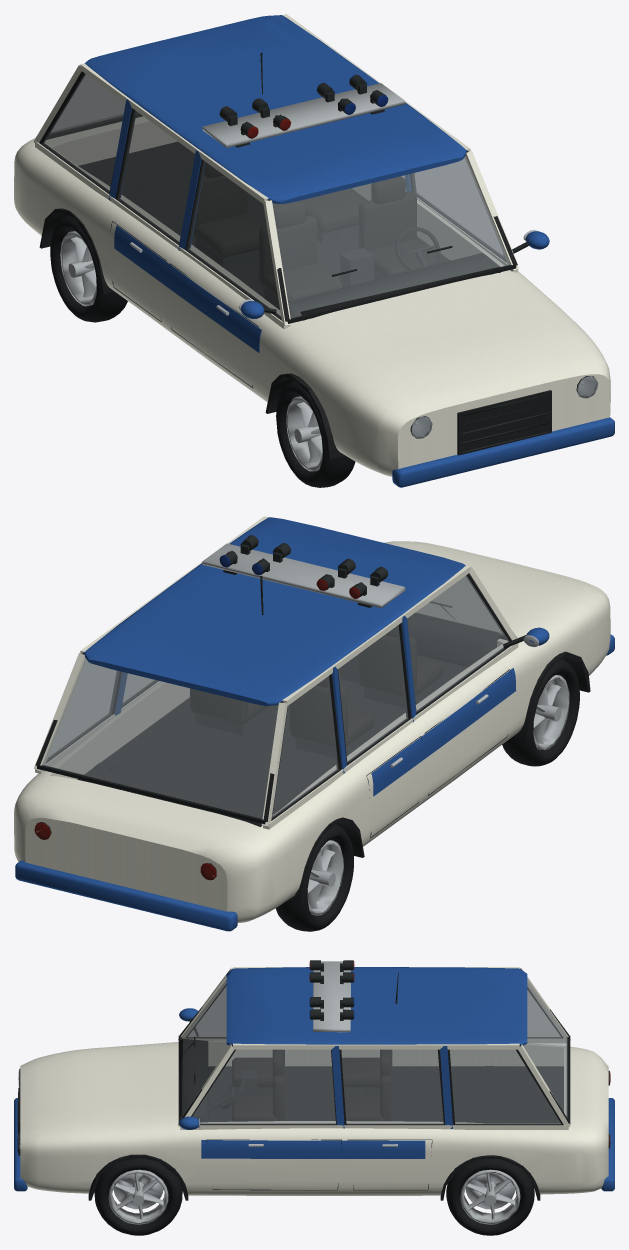
Rendered from police_suv.glb.
3 renders of one model, top to bottom at view 1: azimuth 30°, elevation 25°; view 2: azimuth 150°, elevation 25°; view 3: azimuth 270°, elevation 25°, orthographic. The views are drawn at different scales.
Visible parts, largest first — view 1: Patrol headlamp 1 finite white bulb envelope, Patrol bumper 1, Patrol front door glazing 1 finite transparent pane, Patrol cabin floor, Patrol seat back 0 1, Patrol headrest stem 0 1 320, Patrol axle beam 1510.0, Patrol wheel 1510.0 1 rounded tyre carcass, Patrol headlamp 1 finite curved optic, Patrol handle seated foot 1 500 445; view 2: Patrol headlamp 1 finite white bulb envelope, Patrol bumper 1, Patrol front door glazing 1 finite transparent pane, Patrol cabin floor, Patrol headrest stem 0 1 320, Patrol seat back 0 1, Patrol wheel 1510.0 1 rounded tyre carcass, Patrol axle beam 1510.0, Patrol tail lamp 1 finite curved optic; view 3: Patrol headlamp 1 finite white bulb envelope, Patrol front door glazing 1 finite transparent pane, Patrol bumper 1, Patrol cabin floor, Patrol seat back 0 1, Patrol wheel 1510.0 1 rounded tyre carcass, Patrol headrest stem 0 1 320, Patrol axle beam 1510.0, Patrol handle seated foot 1 500 445.
Part boxes in pixels (<box>): Patrol headlamp 1 finite white bulb envelope: <box>14,14,610,476</box>; Patrol bumper 1: <box>85,15,614,487</box>; Patrol front door glazing 1 finite transparent pane: <box>43,73,510,318</box>; Patrol cabin floor: <box>39,71,551,459</box>; Patrol seat back 0 1: <box>193,162,442,300</box>; Patrol headrest stem 0 1 320: <box>60,83,405,471</box>; Patrol axle beam 1510.0: <box>195,53,597,453</box>; Patrol wheel 1510.0 1 rounded tyre carcass: <box>50,215,355,487</box>; Patrol headlamp 1 finite curved optic: <box>411,376,597,438</box>; Patrol handle seated foot 1 500 445: <box>130,230,596,436</box>; Patrol headlamp 1 finite white bulb envelope: <box>14,516,610,922</box>; Patrol bumper 1: <box>15,517,614,931</box>; Patrol front door glazing 1 finite transparent pane: <box>42,575,509,818</box>; Patrol cabin floor: <box>35,573,590,903</box>; Patrol headrest stem 0 1 320: <box>202,543,569,915</box>; Patrol seat back 0 1: <box>190,626,442,746</box>; Patrol wheel 1510.0 1 rounded tyre carcass: <box>111,659,579,931</box>; Patrol axle beam 1510.0: <box>34,535,526,879</box>; Patrol tail lamp 1 finite curved optic: <box>34,559,387,880</box>; Patrol headlamp 1 finite white bulb envelope: <box>20,967,608,1195</box>; Patrol front door glazing 1 finite transparent pane: <box>181,980,567,1124</box>; Patrol bumper 1: <box>14,967,614,1191</box>; Patrol cabin floor: <box>18,969,570,1200</box>; Patrol seat back 0 1: <box>232,1049,392,1121</box>; Patrol wheel 1510.0 1 rounded tyre carcass: <box>94,1158,534,1235</box>; Patrol headrest stem 0 1 320: <box>108,961,520,1224</box>; Patrol axle beam 1510.0: <box>17,960,609,1152</box>; Patrol handle seated foot 1 500 445: <box>19,1070,515,1209</box>.
Size of the model in its own units: 2.35 by 2.07 by 5.16.
14 materials, 10 textured.
